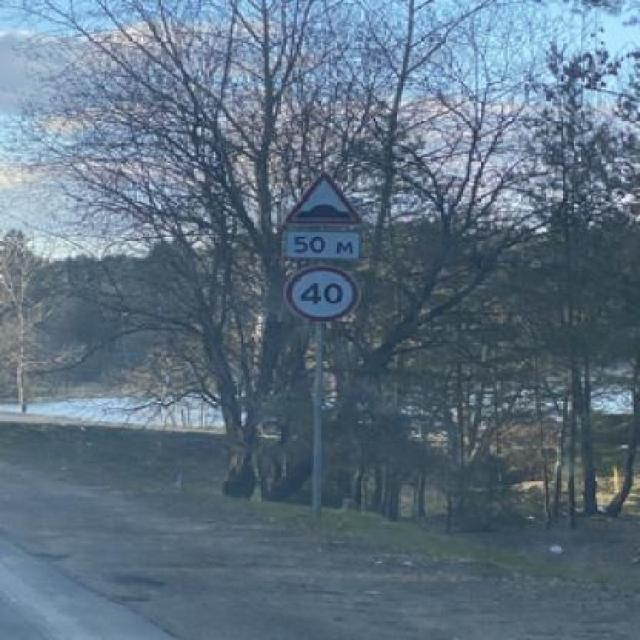forb_speed_over_40: (287, 266, 361, 323)
